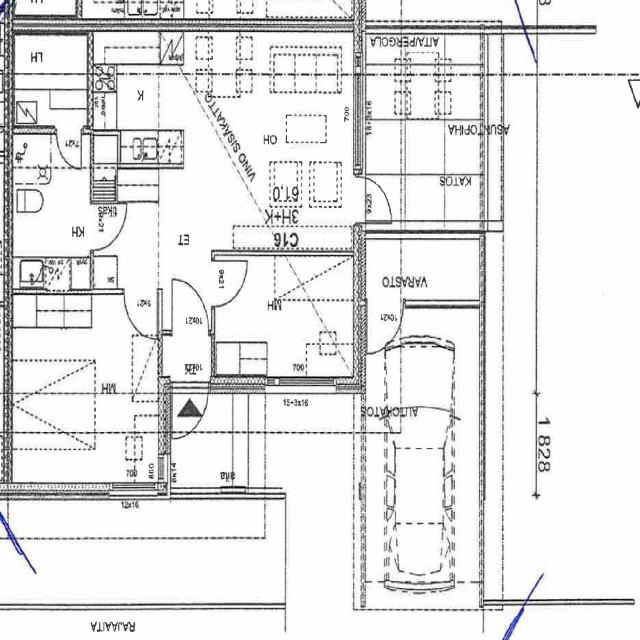door: (172, 382, 208, 444), (172, 279, 208, 335), (367, 300, 403, 355), (355, 178, 393, 222), (90, 204, 126, 250), (124, 289, 156, 340), (211, 261, 247, 306), (56, 129, 81, 168)
